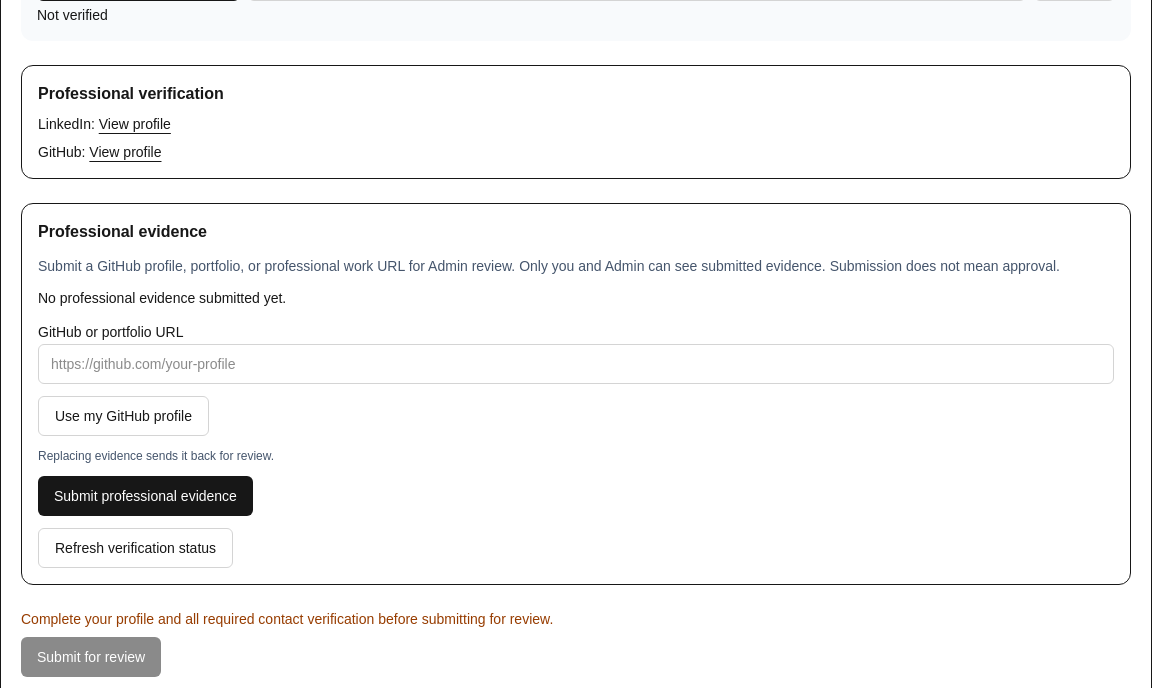
Test case: submits professional evidence for Admin review and refreshes Reviewed state
(page scrolled)
Click the button "Use my GitHub profile" at (123, 416), box x1=38 y1=396 x2=209 y2=436
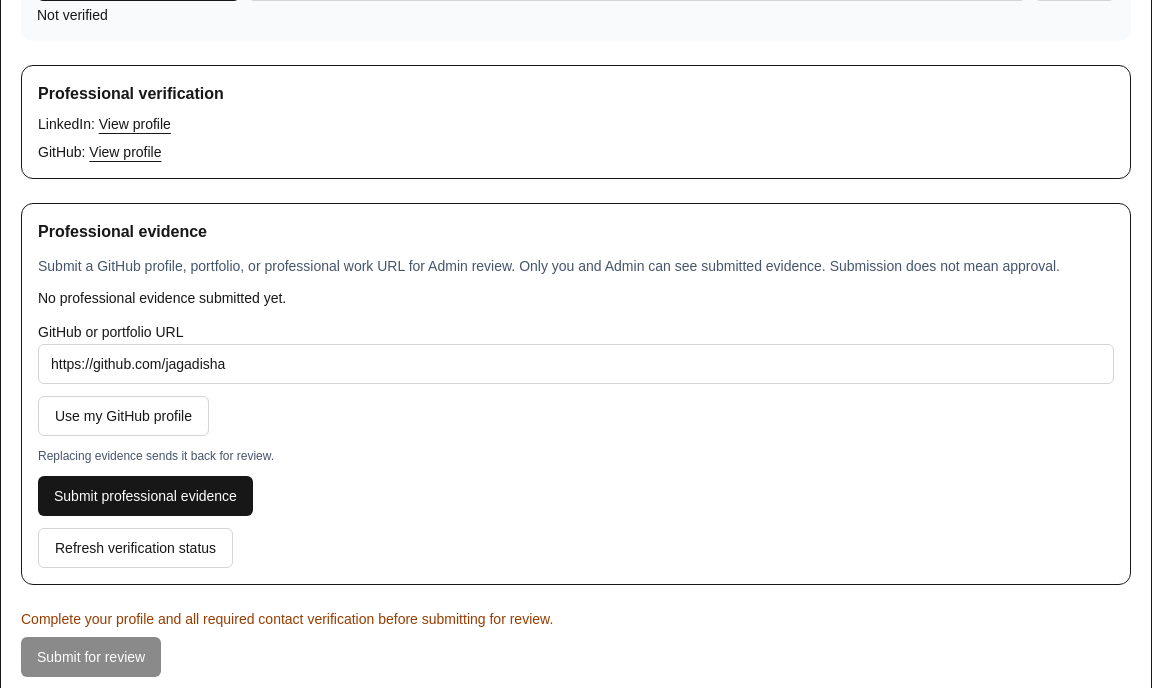
Click the button "Submit professional evidence" at (145, 496), box x1=38 y1=476 x2=253 y2=516
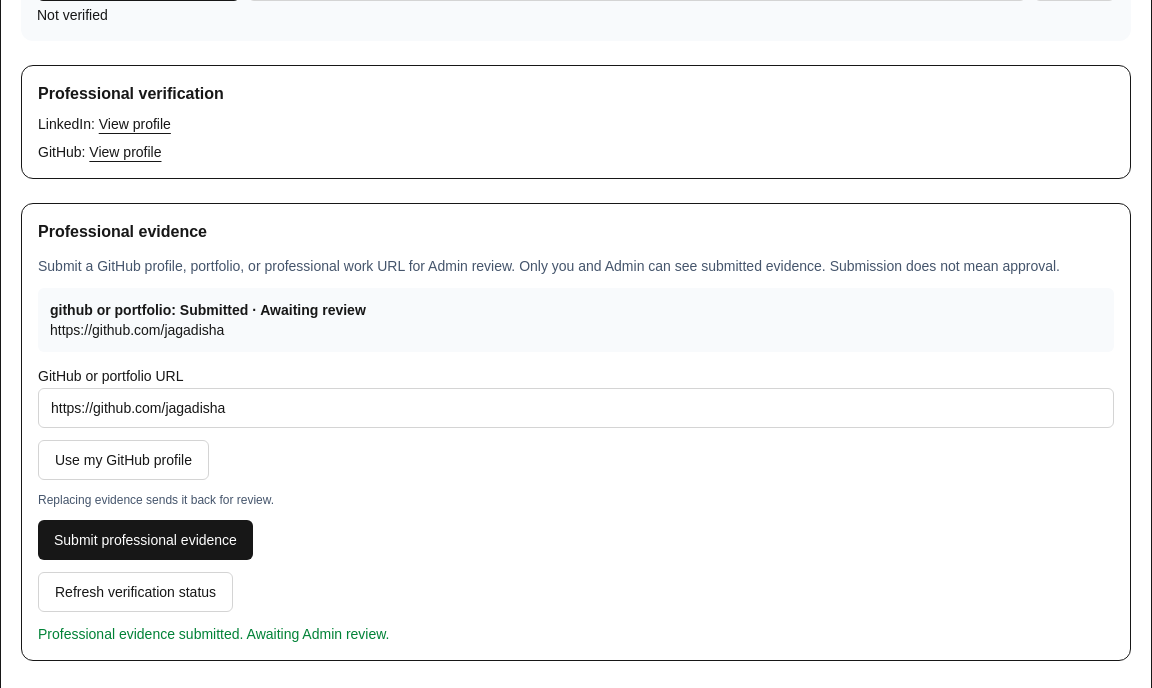
Check: the text "github or portfolio: Submitted · Awaiting review" is shown, box x1=50 y1=302 x2=366 y2=318
Click the button "Refresh verification status" at (136, 592), box x1=38 y1=572 x2=233 y2=612
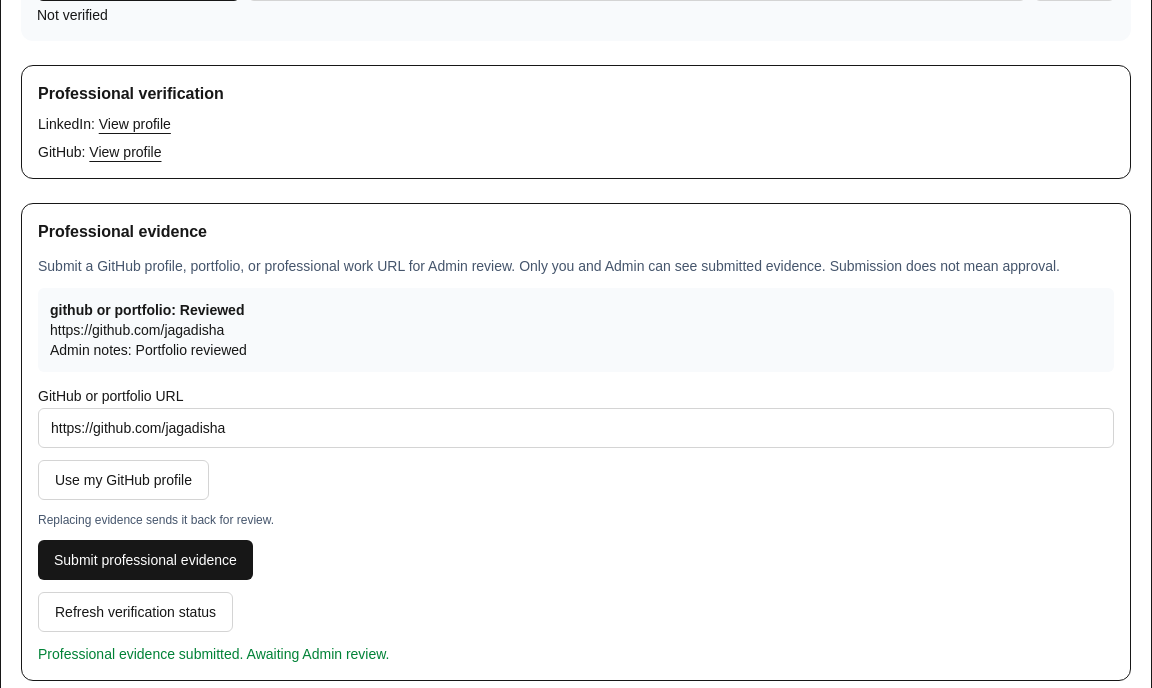
Check: the text "github or portfolio: Reviewed" is shown, box x1=50 y1=302 x2=244 y2=318
